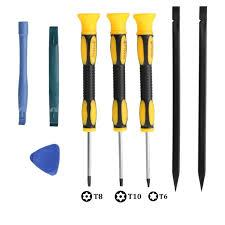screwdriver: (75, 8, 101, 187), (103, 10, 129, 187), (131, 10, 156, 188)
